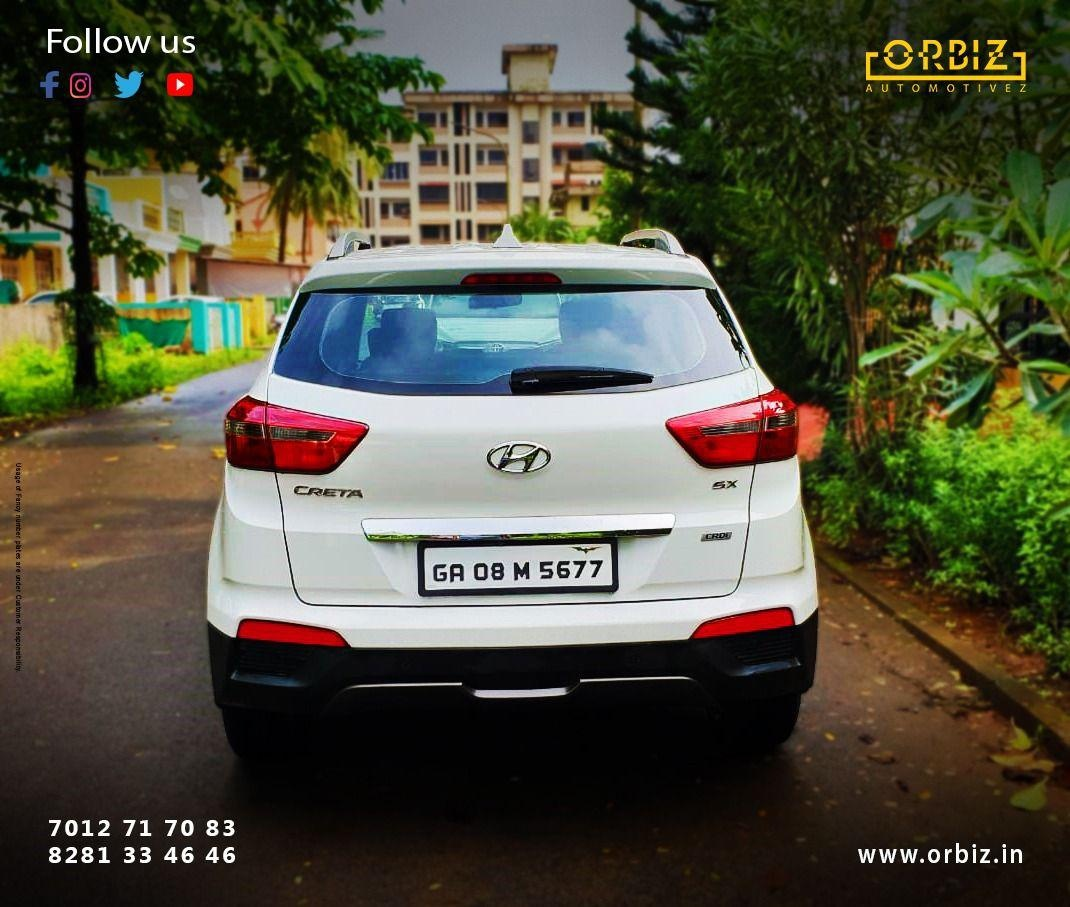number_plate: (424, 548, 613, 591)
